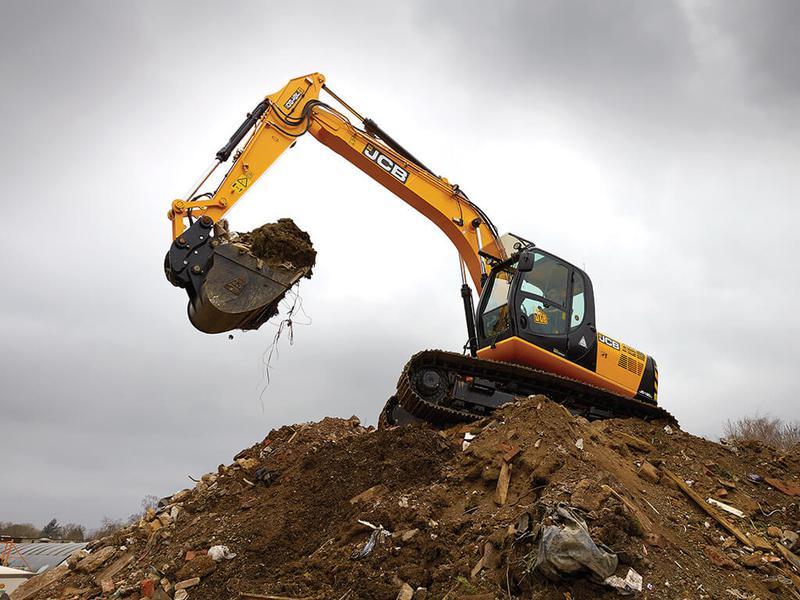shovel: (154, 59, 691, 438)
